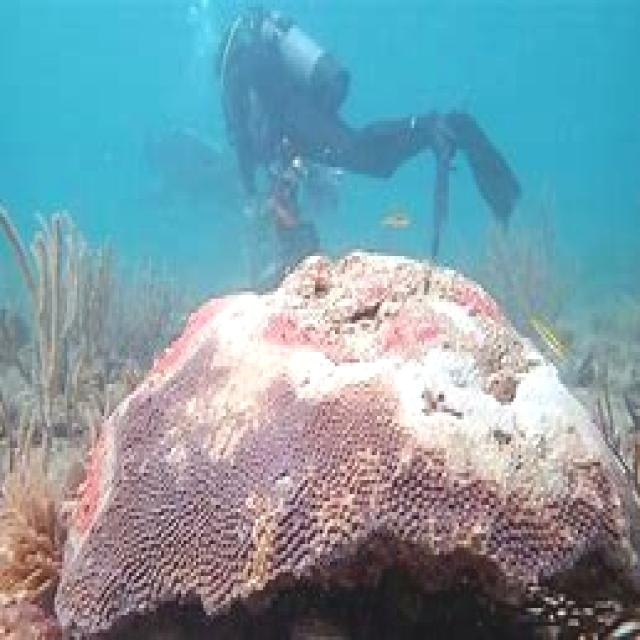Coral: (52, 247, 638, 640)
